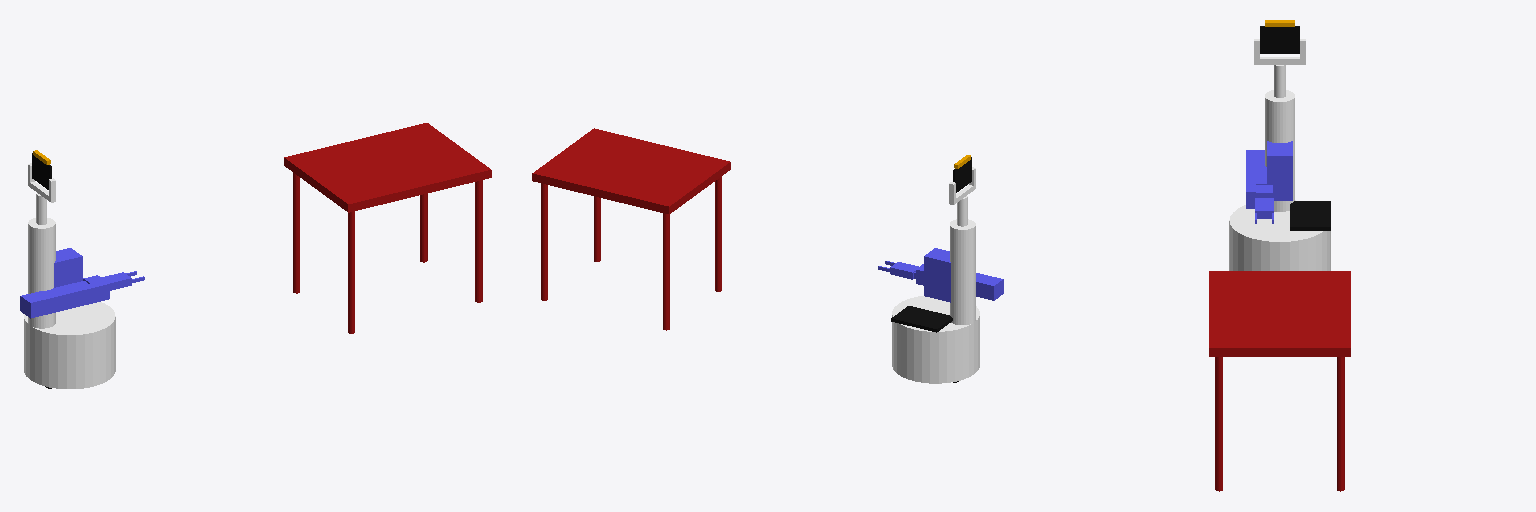
The robot description file, URDF, robot "korus_own":
<?xml version="1.0" ?>
<!-- =================================================================================== -->
<!-- |    This document was autogenerated by xacro from new_korus_own_arm.urdf.xacro   | -->
<!-- |    EDITING THIS FILE BY HAND IS NOT RECOMMENDED                                 | -->
<!-- =================================================================================== -->
<robot name="korus_own" xmlns:xacro="http://www.ros.org/wiki/xacro">
  <!-- ************************ omni drive simulation ************************* -->
  <link name="world">
  </link>
  <joint name="omni_drive_x" type="prismatic">
    <parent link="world"/>
    <child link="omni_drive_x_link"/>
    <origin rpy="0 0 0" xyz="-1.0 0 0"/>
    <axis xyz="1 0 0"/>
    <limit effort="10" lower="0.0" upper="2.0" velocity="1.0"/>
  </joint>
  <link name="omni_drive_x_link">
  </link>
  <joint name="omni_drive_y" type="prismatic">
    <parent link="omni_drive_x_link"/>
    <child link="base_footprint"/>
    <origin rpy="0 0 0" xyz="0.0 0 0"/>
    <axis xyz="0 1 0"/>
    <limit effort="10" lower="-1.0" upper="1.0" velocity="1.0"/>
  </joint>
  <!-- ************************ Robot model ************************* -->
  <link name="base_footprint"/>
  <joint name="base_joint" type="fixed">
    <parent link="base_footprint"/>
    <child link="base_link"/>
    <origin rpy="0 0 0" xyz="0.0 0.0 0.075"/>
  </joint>
  <link name="base_link">
    <visual>
      <origin rpy="0 0 0" xyz="0.0 0 0.0875"/>
      <geometry>
        <cylinder length="0.275" radius="0.250"/>
      </geometry>
      <material name="white">
        <color rgba="1 1 1 1"/>
      </material>
    </visual>
    <collision>
      <origin rpy="0 0 0" xyz="0.0 0 0.0875"/>
      <geometry>
        <cylinder length="0.275" radius="0.250"/>
      </geometry>
      <material name="white">
        <color rgba="1 1 1 1"/>
      </material>
    </collision>
  </link>
  <link name="wheel_left">
    <visual>
      <geometry>
        <cylinder length="0.03" radius="0.075"/>
      </geometry>
      <origin rpy="0 1.57079632679 0" xyz="0 0 0"/>
      <material name="black">
        <color rgba="0.1 0.1 0.1 1"/>
      </material>
    </visual>
  </link>
  <joint name="wheel_left" type="continuous">
    <parent link="base_link"/>
    <child link="wheel_left"/>
    <origin rpy="0 0 1.57079632679" xyz="0.0 0.15 0.0"/>
  </joint>
  <link name="wheel_right">
    <visual>
      <geometry>
        <cylinder length="0.03" radius="0.075"/>
      </geometry>
      <origin rpy="0 1.57079632679 0" xyz="0 0 0"/>
      <material name="black">
        <color rgba="0.1 0.1 0.1 1"/>
      </material>
    </visual>
  </link>
  <joint name="wheel_right" type="continuous">
    <parent link="base_link"/>
    <child link="wheel_right"/>
    <origin rpy="0 0 1.57079632679" xyz="0.0 -0.15 0.0"/>
  </joint>
  <link name="caster_front_left">
    <visual>
      <geometry>
        <cylinder length="0.02" radius="0.04"/>
      </geometry>
      <origin rpy="0 1.57079632679 0" xyz="0 0 0"/>
      <material name="black">
        <color rgba="0.1 0.1 0.1 1"/>
      </material>
    </visual>
  </link>
  <joint name="caster_front_left" type="fixed">
    <parent link="base_link"/>
    <child link="caster_front_left"/>
    <origin rpy="0 0 1.57079632679" xyz="0.18 0.1 -0.035"/>
  </joint>
  <link name="caster_front_right">
    <visual>
      <geometry>
        <cylinder length="0.02" radius="0.04"/>
      </geometry>
      <origin rpy="0 1.57079632679 0" xyz="0 0 0"/>
      <material name="black">
        <color rgba="0.1 0.1 0.1 1"/>
      </material>
    </visual>
  </link>
  <joint name="caster_front_right" type="fixed">
    <parent link="base_link"/>
    <child link="caster_front_right"/>
    <origin rpy="0 0 1.57079632679" xyz="0.18 -0.1 -0.035"/>
  </joint>
  <link name="caster_back_left">
    <visual>
      <geometry>
        <cylinder length="0.02" radius="0.04"/>
      </geometry>
      <origin rpy="0 1.57079632679 0" xyz="0 0 0"/>
      <material name="black">
        <color rgba="0.1 0.1 0.1 1"/>
      </material>
    </visual>
  </link>
  <joint name="caster_back_left" type="fixed">
    <parent link="base_link"/>
    <child link="caster_back_left"/>
    <origin rpy="0 0 1.57079632679" xyz="-0.18 0.1 -0.035"/>
  </joint>
  <link name="caster_back_right">
    <visual>
      <geometry>
        <cylinder length="0.02" radius="0.04"/>
      </geometry>
      <origin rpy="0 1.57079632679 0" xyz="0 0 0"/>
      <material name="black">
        <color rgba="0.1 0.1 0.1 1"/>
      </material>
    </visual>
  </link>
  <joint name="caster_back_right" type="fixed">
    <parent link="base_link"/>
    <child link="caster_back_right"/>
    <origin rpy="0 0 1.57079632679" xyz="-0.18 -0.1 -0.035"/>
  </joint>
  <joint name="body" type="revolute">
    <parent link="base_link"/>
    <child link="body_link"/>
    <origin rpy="0 0 0" xyz="0.0 0.0 0.250"/>
    <axis xyz="0 0 1"/>
    <limit effort="10" lower="-3.14159265359" upper="3.14159265359" velocity="0.013"/>
  </joint>
  <link name="body_link">
    <visual>
      <origin rpy="0 0 0" xyz="0.0 0.0 0.0"/>
      <geometry>
        <cylinder length="0.05" radius="0.25"/>
      </geometry>
      <material name="white">
        <color rgba="1 1 1 1"/>
      </material>
    </visual>
    <collision>
      <origin rpy="0 0 0" xyz="0.0 0.0 0.0"/>
      <geometry>
        <cylinder length="0.05" radius="0.25"/>
      </geometry>
      <material name="white">
        <color rgba="1 1 1 1"/>
      </material>
    </collision>
  </link>
  <joint name="tray_joint" type="revolute">
    <parent link="base_link"/>
    <child link="tray_link"/>
    <origin rpy="0 0 0" xyz="0.0 0.0 0.250"/>
    <axis xyz="0 0 1"/>
    <limit effort="10" lower="-3.14159265359" upper="3.14159265359" velocity="0.013"/>
  </joint>
  <link name="tray_link">
    <visual>
      <geometry>
        <box size="0.30 0.20 0.02"/>
      </geometry>
      <origin rpy="0 0.0 0" xyz="0.0 0.15 0.05"/>
      <material name="black">
        <color rgba="0.1 0.1 0.1 1"/>
      </material>
    </visual>
    <collision>
      <geometry>
        <box size="0.30 0.20 0.02"/>
      </geometry>
      <origin rpy="0 0.0 0" xyz="0.0 0.15 0.05"/>
      <material name="black">
        <color rgba="0.1 0.1 0.1 1"/>
      </material>
    </collision>
  </link>
  <joint name="torso_joint" type="fixed">
    <parent link="body_link"/>
    <child link="torso_link"/>
    <origin rpy="0 0 0" xyz="-0.175 0.0 0.025"/>
  </joint>
  <link name="torso_link">
    <visual>
      <geometry>
        <cylinder length="0.60" radius="0.075"/>
      </geometry>
      <origin rpy="0 0 0" xyz="0 0 0.30"/>
      <material name="white">
        <color rgba="1 1 1 1"/>
      </material>
    </visual>
    <collision>
      <geometry>
        <cylinder length="0.60" radius="0.075"/>
      </geometry>
      <origin rpy="0 0 0" xyz="0 0 0.30"/>
    </collision>
  </link>
  <joint name="torso_lift_offset" type="fixed">
    <parent link="torso_link"/>
    <child link="torso_lift_offset_link"/>
    <origin rpy="0 0 0" xyz="0 0 0.25"/>
    <axis xyz="0 0 1"/>
  </joint>
  <link name="torso_lift_offset_link"/>
  <joint name="torso_lift" type="prismatic">
    <parent link="torso_lift_offset_link"/>
    <child link="torso_lift_link"/>
    <origin rpy="0 0 3.14159265359" xyz="0 0 0"/>
    <axis xyz="0 0 1"/>
    <limit effort="10" lower="-0.10" upper="0.22" velocity="0.5"/>
  </joint>
  <link name="torso_lift_link">
    <!--     <visual> -->
    <!--       <geometry> -->
    <!--         <box size="0.10 0.25 0.13"/> -->
    <!--       </geometry> -->
    <!--       <origin xyz="-0.05 0.0 0.0" rpy="0 0 0"/> -->
    <!--       <xacro:insert_block name="material_grey_blue" /> -->
    <!--     </visual> -->
  </link>
  <joint name="head_joint" type="fixed">
    <parent link="torso_lift_link"/>
    <child link="head_link"/>
    <origin rpy="0 0 3.14159265359" xyz="0.0 0.0 0.125"/>
  </joint>
  <link name="head_link">
    <visual>
      <geometry>
        <cylinder length="0.40" radius="0.03"/>
      </geometry>
      <origin rpy="0 0 0" xyz="0.0 0.0 0.2"/>
      <material name="white">
        <color rgba="1 1 1 1"/>
      </material>
    </visual>
  </link>
  <joint name="tablet_pan_joint" type="revolute">
    <parent link="head_link"/>
    <child link="tablet_pan_link"/>
    <origin rpy="0 0 0" xyz="0.0 0.0 0.40"/>
    <axis xyz="0 0 1"/>
    <limit effort="10" lower="-1.57079632679" upper="1.57079632679" velocity="0.013"/>
  </joint>
  <link name="tablet_pan_link">
    <visual>
      <geometry>
        <box size="0.03 0.26 0.03"/>
      </geometry>
      <origin rpy="0.0 0.0 0.0" xyz="0.0 0.0 0.015"/>
      <material name="white">
        <color rgba="1 1 1 1"/>
      </material>
    </visual>
  </link>
  <joint name="tablet_tilt_mount_left_joint" type="fixed">
    <parent link="tablet_pan_link"/>
    <child link="tablet_tilt_mount_left_link"/>
    <origin rpy="0 0 0" xyz="0 0.115 0"/>
  </joint>
  <link name="tablet_tilt_mount_left_link">
    <visual>
      <geometry>
        <box size="0.03 0.03 0.10"/>
      </geometry>
      <origin rpy="0.0 0.0 0.0" xyz="0.0 0.0 0.08"/>
      <material name="white">
        <color rgba="1 1 1 1"/>
      </material>
    </visual>
  </link>
  <joint name="tablet_tilt_mount_right_joint" type="fixed">
    <parent link="tablet_pan_link"/>
    <child link="tablet_tilt_mount_right_link"/>
    <origin rpy="0 0 0" xyz="0 -0.115 0"/>
  </joint>
  <link name="tablet_tilt_mount_right_link">
    <visual>
      <geometry>
        <box size="0.03 0.03 0.10 "/>
      </geometry>
      <origin rpy="0.0 0.0 0.0" xyz="0.0 0.0 0.08"/>
      <material name="white">
        <color rgba="1 1 1 1"/>
      </material>
    </visual>
  </link>
  <joint name="tablet_tilt_joint" type="revolute">
    <parent link="tablet_pan_link"/>
    <child link="tablet_tilt_link"/>
    <origin rpy="1.57079632679 0 0" xyz="0 0 0.13"/>
    <axis xyz="0 0 1"/>
    <limit effort="10" lower="-1.57079632679" upper="1.57079632679" velocity="0.013"/>
  </joint>
  <link name="tablet_tilt_link">
    <visual>
      <geometry>
        <box size="0.01 0.20 0.15"/>
      </geometry>
      <origin rpy="-1.57079632679 0.0 0.0" xyz="0.0 0.0 0.0"/>
      <material name="black">
        <color rgba="0.1 0.1 0.1 1"/>
      </material>
    </visual>
  </link>
  <joint name="asus_tilt_joint" type="fixed">
    <parent link="tablet_tilt_link"/>
    <child link="asus_link"/>
    <origin rpy="0 0 0" xyz="0.0 0.0875 0.0"/>
  </joint>
  <link name="asus_link">
    <visual>
      <geometry>
        <box size="0.025 0.025 0.15"/>
      </geometry>
      <origin rpy="0 0 0" xyz="0.0 0.0 0.0"/>
      <material name="orange">
        <color rgba="1.0 0.7 0.0 1"/>
      </material>
    </visual>
  </link>
  <!-- ************************ Arm model ************************* -->
  <joint name="arm_mount_joint" type="fixed">
    <parent link="torso_lift_link"/>
    <child link="arm_mount_link"/>
    <origin rpy="0 0 0" xyz="0 0 0"/>
  </joint>
  <link name="arm_mount_link">
    <visual>
      <geometry>
        <box size="0.2185 0.25 0.13"/>
      </geometry>
      <origin rpy="1.57079632679 0 0" xyz="-0.10925 0.0 0.0"/>
      <material name="grey_blue">
        <color rgba="0.4 0.4 1.0 1"/>
      </material>
    </visual>
  </link>
  <joint name="shoulder_roll" type="fixed">
    <parent link="arm_mount_link"/>
    <child link="shoulder_roll_link"/>
    <origin rpy="-1.57079632679 0 0" xyz="-0.175 0.09 -0.07"/>
  </joint>
  <link name="shoulder_roll_link">
	  </link>
  <joint name="shoulder_pitch" type="revolute">
    <parent link="shoulder_roll_link"/>
    <child link="shoulder_pitch_link"/>
    <origin rpy="0.0 0.0 0.0" xyz="0.0 0.0 0.0"/>
    <axis xyz="0 0 1"/>
    <limit effort="10" lower="-3.14159265359" upper="3.14159265359" velocity="0.013"/>
  </joint>
  <link name="shoulder_pitch_link">
    <visual>
      <geometry>
        <box size="0.40 0.093 0.055"/>
      </geometry>
      <origin rpy="0 0 0" xyz="0.146 0.0 0.0"/>
      <material name="grey_blue">
        <color rgba="0.4 0.4 1.0 1"/>
      </material>
    </visual>
  </link>
  <joint name="elbow_pitch" type="revolute">
    <parent link="shoulder_pitch_link"/>
    <child link="elbow_pitch_link"/>
    <origin rpy="0 0 3.141592" xyz="0.29 0.0 0.045"/>
    <axis xyz="0 0 1"/>
    <limit effort="10" lower="-6.28318530718" upper="6.28318530718" velocity="0.013"/>
  </joint>
  <link name="elbow_pitch_link">
    <visual>
      <geometry>
        <box size="0.50 0.093 0.053"/>
      </geometry>
      <origin rpy="0 0 0" xyz="0.195 0.00 0.009"/>
      <material name="grey_blue">
        <color rgba="0.4 0.4 1.0 1"/>
      </material>
    </visual>
  </link>
  <joint name="wrist_pitch" type="revolute">
    <parent link="elbow_pitch_link"/>
    <child link="wrist_pitch_link"/>
    <origin rpy="0 0 0" xyz="0.40 0.0 -0.058"/>
    <axis xyz="0 0 1"/>
    <!-- 	    <limit effort="10" lower="-1.7453" upper="1.7453" velocity="0.5"/> -->
    <limit effort="10" lower="-3.14159265359" upper="3.14159265359" velocity="0.013"/>
  </joint>
  <link name="wrist_pitch_link">
    <visual>
      <geometry>
        <box size="0.09 0.09 0.081"/>
      </geometry>
      <origin rpy="0 0 0" xyz="0.0 0.0 0.0"/>
      <material name="grey_blue">
        <color rgba="0.4 0.4 1.0 1"/>
      </material>
    </visual>
  </link>
  <joint name="wrist_roll" type="revolute">
    <parent link="wrist_pitch_link"/>
    <child link="wrist_roll_link"/>
    <origin rpy="0 1.57079632679 0.0" xyz="0.045 0 0"/>
    <axis xyz="0 0 1"/>
    <limit effort="10" lower="-3.14159265359" upper="3.14159265359" velocity="0.013"/>
    <!--     <limit effort="10" lower="-2.0944" upper="2.0944" velocity="0.5"/> -->
  </joint>
  <link name="wrist_roll_link">
    <visual>
      <geometry>
        <box size="0.068 0.034 0.068"/>
      </geometry>
      <origin rpy="0 0 0" xyz="0.0 0.0 0.034"/>
      <material name="grey_blue">
        <color rgba="0.4 0.4 1.0 1"/>
      </material>
    </visual>
  </link>
  <joint name="wrist_yaw" type="revolute">
    <parent link="wrist_roll_link"/>
    <child link="wrist_yaw_link"/>
    <origin rpy="1.57079632679 -1.57079632679 0.0" xyz="0 0 0.034"/>
    <axis xyz="0 0 1"/>
    <limit effort="10" lower="-1.6232" upper="1.6232" velocity="0.5"/>
  </joint>
  <link name="wrist_yaw_link">
    <visual>
      <geometry>
        <box size="0.148 0.09 0.045"/>
      </geometry>
      <origin rpy="0 0 0" xyz="0.057 0.0 0.0"/>
      <material name="grey_blue">
        <color rgba="0.4 0.4 1.0 1"/>
      </material>
    </visual>
  </link>
  <joint name="gripper_palm" type="fixed">
    <parent link="wrist_yaw_link"/>
    <child link="gripper_palm_link"/>
    <origin rpy="0.0 0.0 0.0" xyz="0.131 0 0"/>
    <axis xyz="0 0 1"/>
    <limit effort="10" lower="-1.6232" upper="1.6232" velocity="0.5"/>
  </joint>
  <link name="gripper_palm_link">
    <!--     <visual> -->
    <!--       <geometry> -->
    <!--         <box size="0.01 0.01 0.01"/> -->
    <!--       </geometry> -->
    <!--       <origin xyz="0.0 0.0 0.0" rpy="0 0 0"/> -->
    <!--       <xacro:insert_block name="material_green"/> -->
    <!--     </visual>  -->
  </link>
  <joint name="gripper_center" type="fixed">
    <parent link="wrist_yaw_link"/>
    <child link="gripper_center_link"/>
    <origin rpy="0 0 0" xyz="0.181 0 0"/>
  </joint>
  <link name="gripper_center_link">
    <!-- 	    <visual> -->
    <!-- 	      <geometry> -->
    <!-- 	        <box size="0.04 0.04 0.08"/> -->
    <!-- 	      </geometry> -->
    <!-- 	      <origin xyz="0.0 0.0 0.0" rpy="0 0 0"/> -->
    <!-- 	      <xacro:insert_block name="material_orange" /> -->
    <!-- 	    </visual>    -->
  </link>
  <joint name="gripper_left_finger_joint" type="prismatic">
    <parent link="wrist_yaw_link"/>
    <child link="gripper_left_finger_tip_link"/>
    <origin rpy="0.0 0.0 0.0" xyz="0.131 -0.04 0.0"/>
    <axis xyz="0 1 0"/>
    <limit effort="10" lower="0.0" upper="0.04" velocity="0.5"/>
  </joint>
  <link name="gripper_left_finger_tip_link">
    <visual>
      <geometry>
        <box size="0.08 0.02 0.01"/>
      </geometry>
      <origin rpy="1.57079632679 0 0" xyz="0.04 0.0 0.0"/>
      <material name="grey_blue">
        <color rgba="0.4 0.4 1.0 1"/>
      </material>
    </visual>
  </link>
  <joint name="gripper_right_finger_joint" type="prismatic">
    <parent link="wrist_yaw_link"/>
    <child link="gripper_right_finger_tip_link"/>
    <origin rpy="3.14159265359 0.0 0.0" xyz="0.131 0.04 0.0"/>
    <axis xyz="0 1 0"/>
    <limit effort="10" lower="0.0" upper="0.04" velocity="0.5"/>
  </joint>
  <link name="gripper_right_finger_tip_link">
    <visual>
      <geometry>
        <box size="0.08 0.02 0.01"/>
      </geometry>
      <origin rpy="1.57079632679 0 0" xyz="0.04 0.0 0.0"/>
      <material name="grey_blue">
        <color rgba="0.4 0.4 1.0 1"/>
      </material>
    </visual>
  </link>
  <!-- ************************ Table model ************************* -->
  <joint name="table_bottom_center_joint" type="fixed">
    <parent link="world"/>
    <child link="table_bottom_center_link"/>
    <origin rpy="0 0 0" xyz="1.00 0.0 0"/>
  </joint>
  <link name="table_bottom_center_link">
	  </link>
  <joint name="table_foot_front_right_bottom_joint" type="fixed">
    <parent link="table_bottom_center_link"/>
    <child link="table_foot_front_right_bottom_link"/>
    <origin rpy="0 0 0" xyz="0.4 0.3 0.0"/>
  </joint>
  <link name="table_foot_front_right_bottom_link">
    <visual>
      <origin rpy="0 0 0" xyz="0.0 0 0.20"/>
      <geometry>
        <cylinder length="0.40" radius="0.02"/>
      </geometry>
      <material name="black">
        <color rgba="0.7 0.1 0.1 1"/>
      </material>
    </visual>
    <collision>
      <origin rpy="0 0 0" xyz="0.0 0 0.20"/>
      <geometry>
        <cylinder length="0.40" radius="0.02"/>
      </geometry>
    </collision>
  </link>
  <joint name="table_foot_front_right_top_joint" type="prismatic">
    <parent link="table_foot_front_right_bottom_link"/>
    <child link="table_foot_front_right_link"/>
    <origin rpy="0 0 0" xyz="0 0 0.4"/>
    <axis xyz="0 0 1"/>
    <limit effort="10" lower="-0.4" upper="0.0" velocity="0.4"/>
  </joint>
  <link name="table_foot_front_right_link">
    <visual>
      <origin rpy="0 0 0" xyz="0.0 0 0.20"/>
      <geometry>
        <cylinder length="0.40" radius="0.02"/>
      </geometry>
      <material name="black">
        <color rgba="0.7 0.1 0.1 1"/>
      </material>
    </visual>
    <collision>
      <origin rpy="0 0 0" xyz="0.0 0 0.20"/>
      <geometry>
        <cylinder length="0.40" radius="0.02"/>
      </geometry>
    </collision>
  </link>
  <joint name="table_foot_front_left_joint" type="fixed">
    <parent link="table_bottom_center_link"/>
    <child link="table_foot_front_left_link"/>
    <origin rpy="0 0 0" xyz="0.4 -0.3 0"/>
  </joint>
  <link name="table_foot_front_left_link">
    <visual>
      <origin rpy="0 0 0" xyz="0.0 0 0.375"/>
      <geometry>
        <cylinder length="0.75" radius="0.02"/>
      </geometry>
      <material name="black">
        <color rgba="0.7 0.1 0.1 1"/>
      </material>
    </visual>
    <collision>
      <origin rpy="0 0 0" xyz="0.0 0 0.375"/>
      <geometry>
        <cylinder length="0.75" radius="0.02"/>
      </geometry>
    </collision>
  </link>
  <joint name="table_foot_back_right_joint" type="fixed">
    <parent link="table_bottom_center_link"/>
    <child link="table_foot_back_right_link"/>
    <origin rpy="0 0 0" xyz="-0.4 0.3 0"/>
  </joint>
  <link name="table_foot_back_right_link">
    <visual>
      <geometry>
        <cylinder length="0.75" radius="0.02"/>
      </geometry>
      <origin rpy="0 0 0" xyz="0.0 0 0.375"/>
      <material name="black">
        <color rgba="0.7 0.1 0.1 1"/>
      </material>
    </visual>
    <collision>
      <geometry>
        <cylinder length="0.75" radius="0.02"/>
      </geometry>
      <origin rpy="0 0 0" xyz="0.0 0 0.375"/>
    </collision>
  </link>
  <joint name="table_foot_back_left_joint" type="fixed">
    <parent link="table_bottom_center_link"/>
    <child link="table_foot_back_left_link"/>
    <origin rpy="0 0 0" xyz="-0.4 -0.3 0"/>
  </joint>
  <link name="table_foot_back_left_link">
    <visual>
      <geometry>
        <cylinder length="0.75" radius="0.02"/>
      </geometry>
      <origin rpy="0 0 0" xyz="0.0 0 0.375"/>
      <material name="black">
        <color rgba="0.7 0.1 0.1 1"/>
      </material>
    </visual>
    <collision>
      <geometry>
        <cylinder length="0.75" radius="0.02"/>
      </geometry>
      <origin rpy="0 0 0" xyz="0.0 0 0.375"/>
    </collision>
  </link>
  <joint name="table_top_center_joint" type="prismatic">
    <parent link="table_bottom_center_link"/>
    <child link="table_top_center_link"/>
    <origin rpy="0 0 0" xyz="0.0 0.0 0.80"/>
    <axis xyz="0 0 1"/>
    <limit effort="10" lower="-0.4" upper="0.0" velocity="0.4"/>
  </joint>
  <link name="table_top_center_link">
    <visual>
      <geometry>
        <box size="0.90 0.70 0.05"/>
      </geometry>
      <origin rpy="0 0.0 0" xyz="0.0 0.0 -0.025"/>
      <material name="black">
        <color rgba="0.7 0.1 0.1 1"/>
      </material>
    </visual>
    <collision>
      <geometry>
        <box size="0.90 0.70 0.05"/>
      </geometry>
      <origin rpy="0 0.0 0" xyz="0.0 0.0 -0.025"/>
    </collision>
  </link>
</robot>

--- Render facts (derived) ---
Views: 3 orthographic renders of the robot side by side, from view 1: azimuth 30°, elevation 25°; view 2: azimuth 150°, elevation 25°; view 3: azimuth 270°, elevation 25°.
Model korus_own with 39 links and 38 joints (9 revolute, 2 continuous, 7 prismatic, 20 fixed), rooted at world, posed all joints at 0.
Visible links, largest first — view 1: table_top_center_link, base_link, body_link, torso_link, elbow_pitch_link, table_foot_front_left_link, arm_mount_link, table_foot_back_left_link, table_foot_back_right_link, table_foot_front_right_bottom_link; view 2: table_top_center_link, base_link, torso_link, body_link, arm_mount_link, tray_link, table_foot_back_right_link, table_foot_back_left_link; view 3: table_top_center_link, body_link, base_link, torso_link, arm_mount_link, tray_link, tablet_tilt_link, table_foot_front_left_link, table_foot_front_right_bottom_link, elbow_pitch_link.
Boxes of the visible links, bbox=[...] form: table_top_center_link: bbox=[284, 123, 491, 212]; base_link: bbox=[24, 326, 115, 388]; body_link: bbox=[24, 302, 115, 343]; torso_link: bbox=[28, 218, 55, 328]; elbow_pitch_link: bbox=[26, 280, 109, 318]; table_foot_front_left_link: bbox=[475, 180, 482, 302]; arm_mount_link: bbox=[54, 248, 82, 287]; table_foot_back_left_link: bbox=[348, 211, 354, 333]; table_foot_back_right_link: bbox=[293, 173, 299, 293]; table_foot_front_right_bottom_link: bbox=[420, 195, 427, 262]; table_top_center_link: bbox=[532, 128, 730, 214]; base_link: bbox=[892, 323, 979, 383]; torso_link: bbox=[950, 219, 975, 324]; body_link: bbox=[892, 296, 979, 339]; arm_mount_link: bbox=[924, 248, 950, 302]; tray_link: bbox=[891, 306, 952, 332]; table_foot_back_right_link: bbox=[663, 213, 669, 330]; table_foot_back_left_link: bbox=[715, 177, 721, 291]; table_top_center_link: bbox=[1209, 271, 1350, 356]; body_link: bbox=[1229, 200, 1329, 250]; base_link: bbox=[1229, 230, 1330, 270]; torso_link: bbox=[1265, 90, 1294, 211]; arm_mount_link: bbox=[1267, 141, 1292, 200]; tray_link: bbox=[1290, 201, 1330, 230]; tablet_tilt_link: bbox=[1260, 26, 1299, 53]; table_foot_front_left_link: bbox=[1215, 357, 1222, 491]; table_foot_front_right_bottom_link: bbox=[1337, 417, 1344, 491]; elbow_pitch_link: bbox=[1246, 150, 1255, 208].
Bounding box of the posed robot: 2.8 × 0.7 × 1.35 m (x, y, z).
Geometry: primitives only (box / cylinder / sphere), no mesh files.